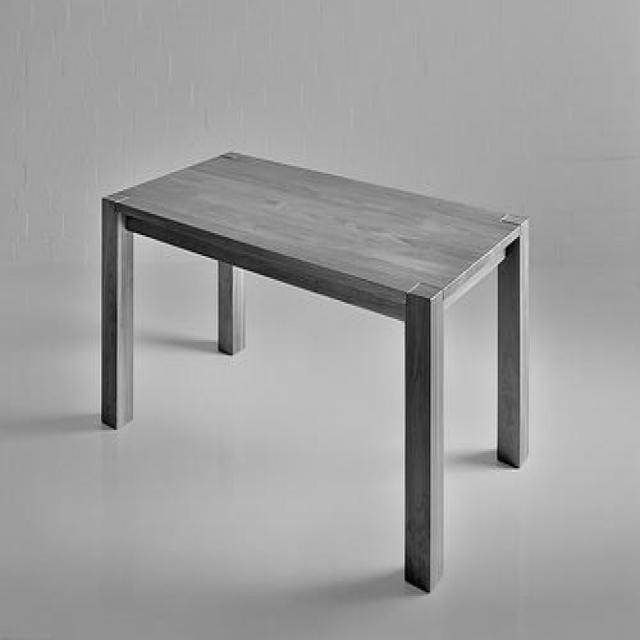table: (100, 150, 532, 594)
